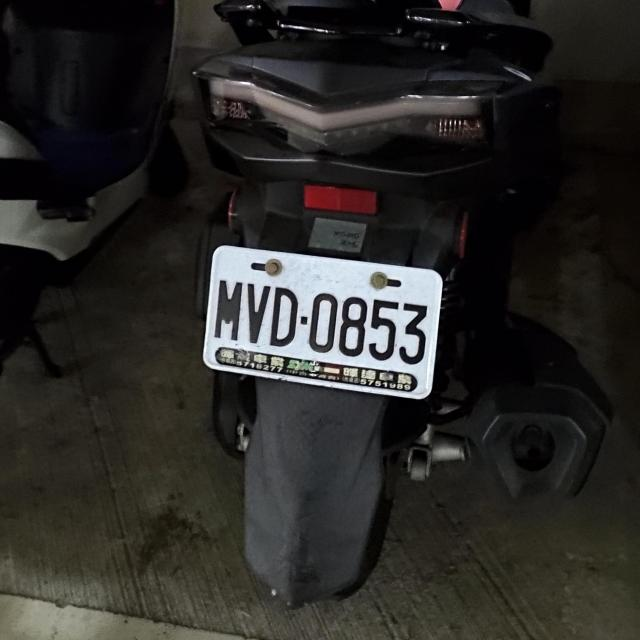W: (195, 240, 447, 399)
